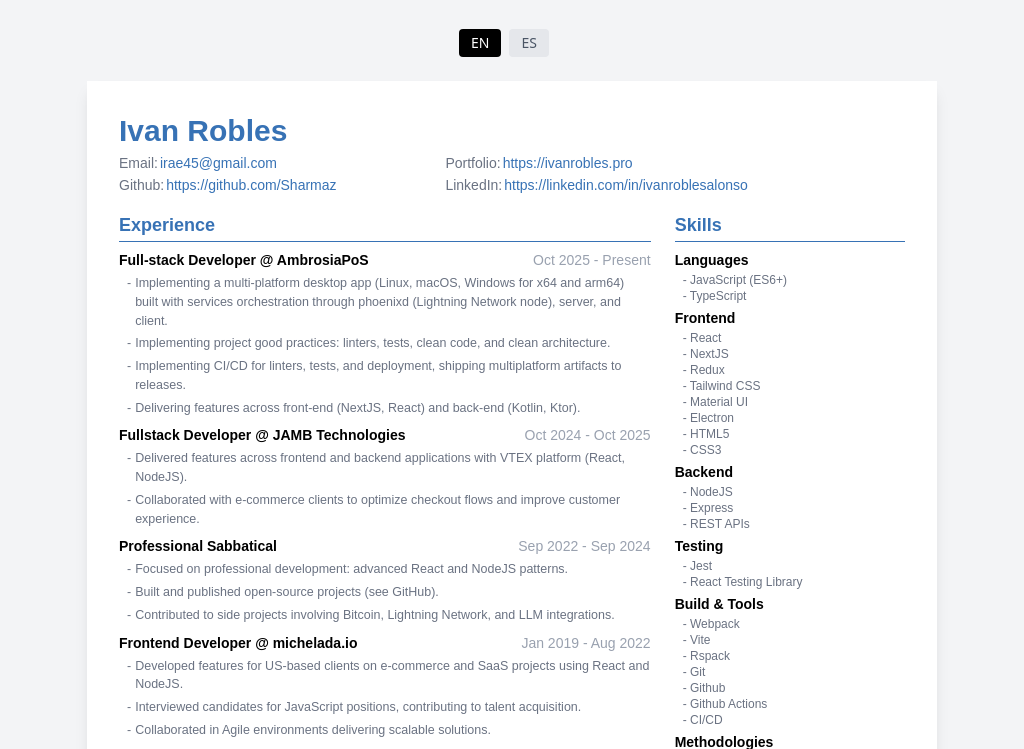
Test: switches to Spanish when ES button is clicked
Click the button "ES".
click(529, 43)  # box [510, 29, 549, 57]
(page scrolled)
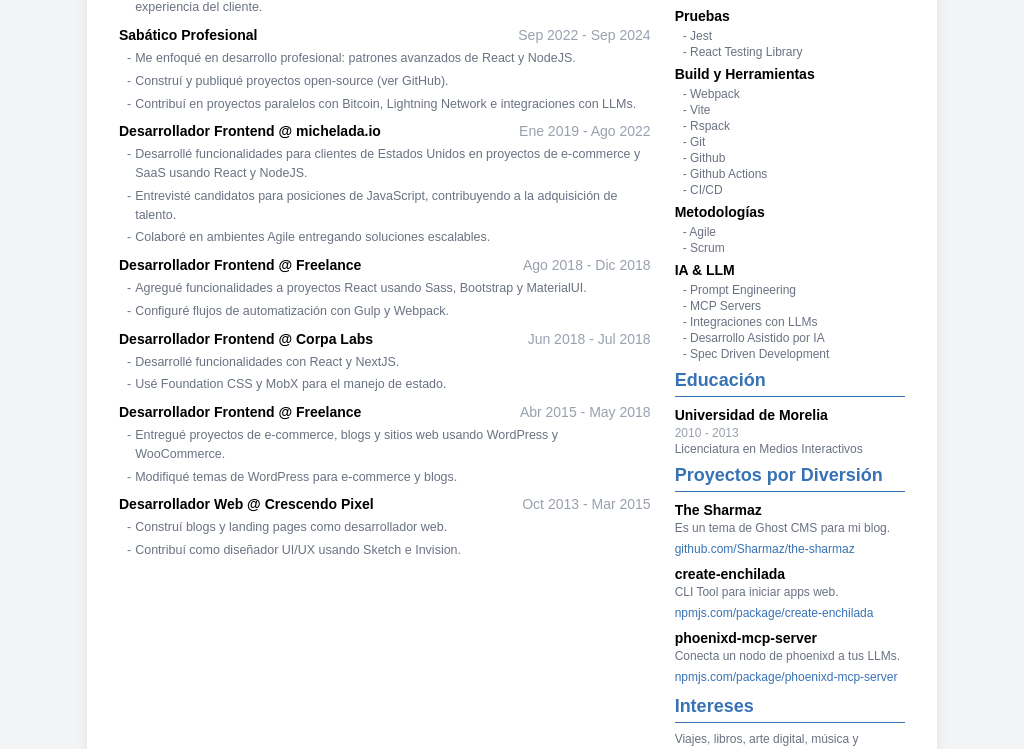
Result: the heading "Educación" is shown at [675, 366, 905, 397]
